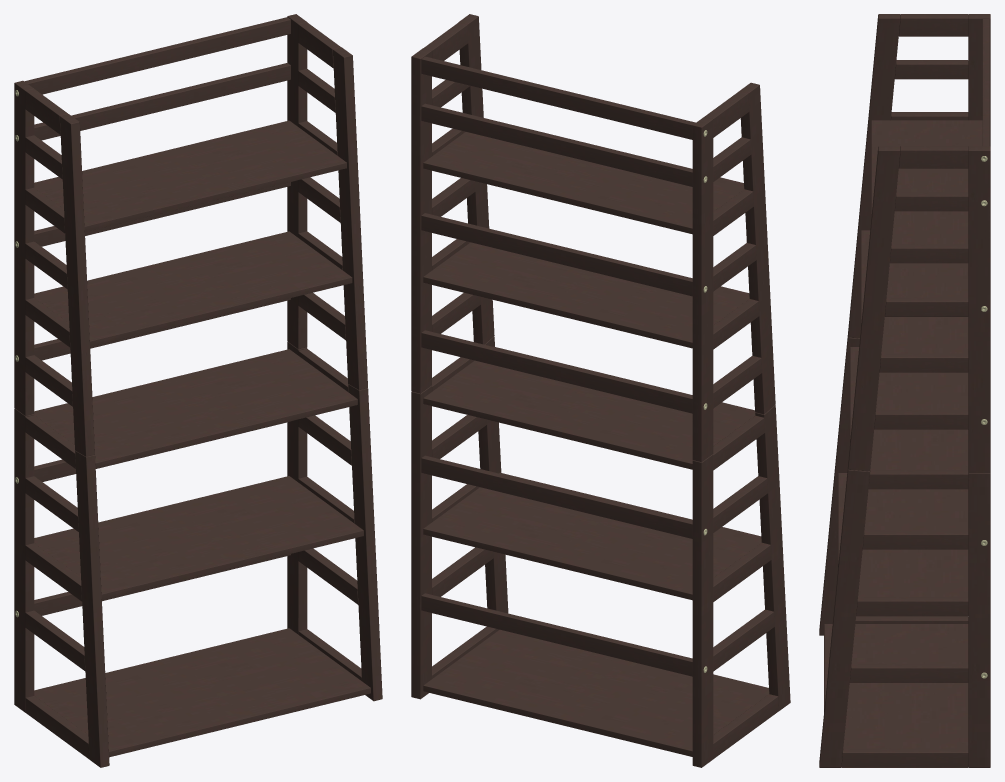
Rendered from B07DMHTGJD.glb.
The picture shows the model from 3 angles, left to right: view 1: azimuth 30°, elevation 25°; view 2: azimuth 150°, elevation 25°; view 3: azimuth 270°, elevation 25°; orthographic projection. The views are drawn at different scales.
Visible parts, largest first — view 1: RootNode; view 2: RootNode; view 3: RootNode.
Boxes of the visible parts, x1,y1,x2,y2 form: RootNode: (14,14,382,767); RootNode: (411,14,790,767); RootNode: (819,14,990,767).
Size of the model in its own units: 0.763 by 1.6 by 0.4028.
Materials: 1 (1 with a texture image).
